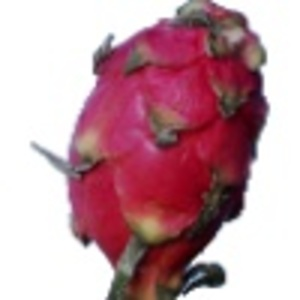pitaia: (31, 1, 272, 300)
